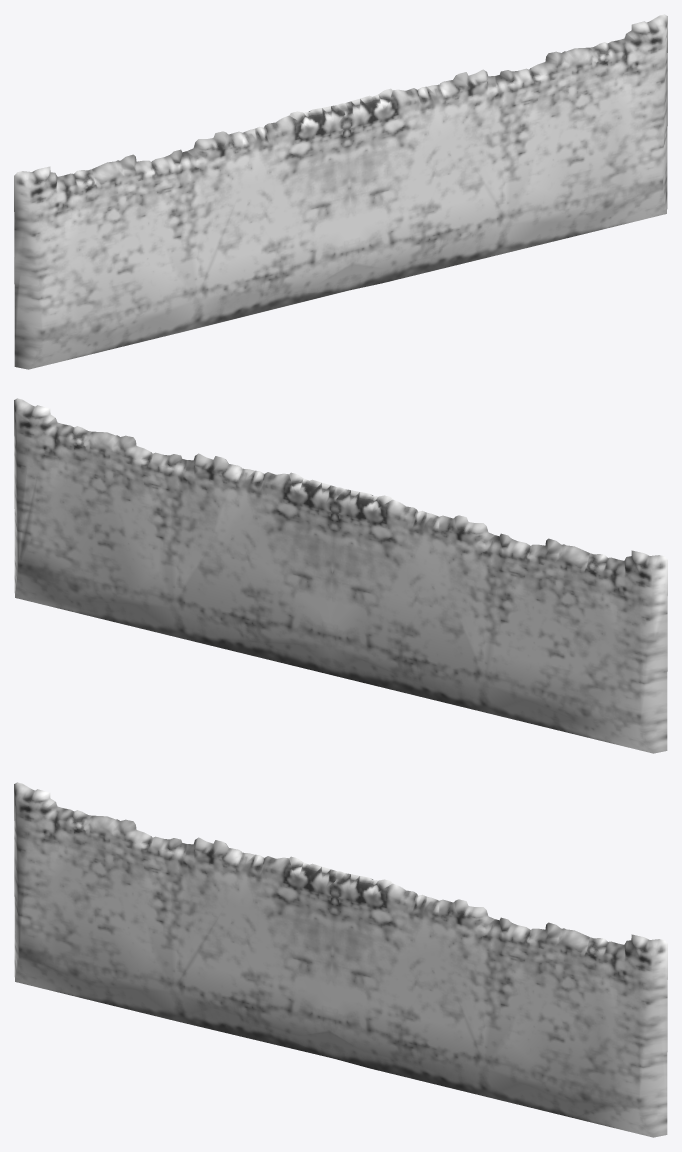
The model's file is Ruins_BigWall010.fbx.
3 views of the same model, one above another, from view 1: azimuth 30°, elevation 25°; view 2: azimuth 150°, elevation 25°; view 3: azimuth 330°, elevation 25° (orthographic).
Visible parts, largest first — view 1: Ruins_BigWall010; view 2: Ruins_BigWall010; view 3: Ruins_BigWall010.
Part boxes in pixels (x1=…): Ruins_BigWall010: x1=14, y1=14, x2=667, y2=369; Ruins_BigWall010: x1=14, y1=398, x2=667, y2=753; Ruins_BigWall010: x1=14, y1=782, x2=667, y2=1137.
Bounding box in the file's own units: 1211 × 343 × 76.63.
